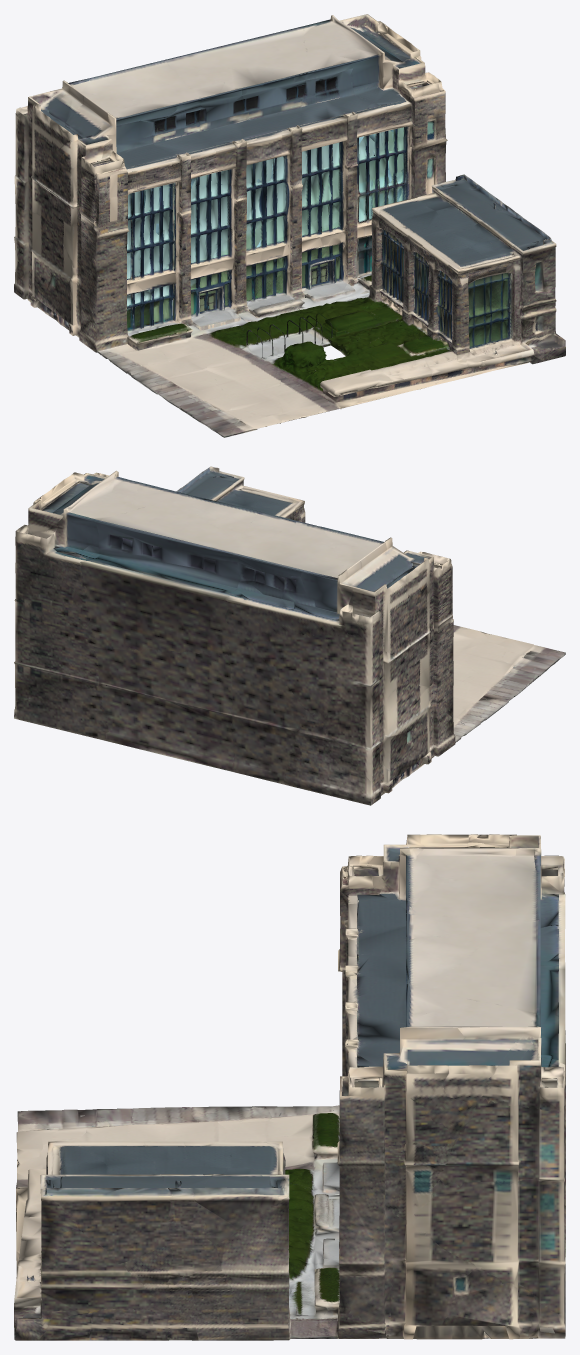
3 views of the same model, one above another, from view 1: azimuth 30°, elevation 25°; view 2: azimuth 150°, elevation 25°; view 3: azimuth 270°, elevation 25° (orthographic). The views are drawn at different scales.
Size of the model in its own units: 1.9 by 1.09 by 1.9.
1 material, 1 textured.
